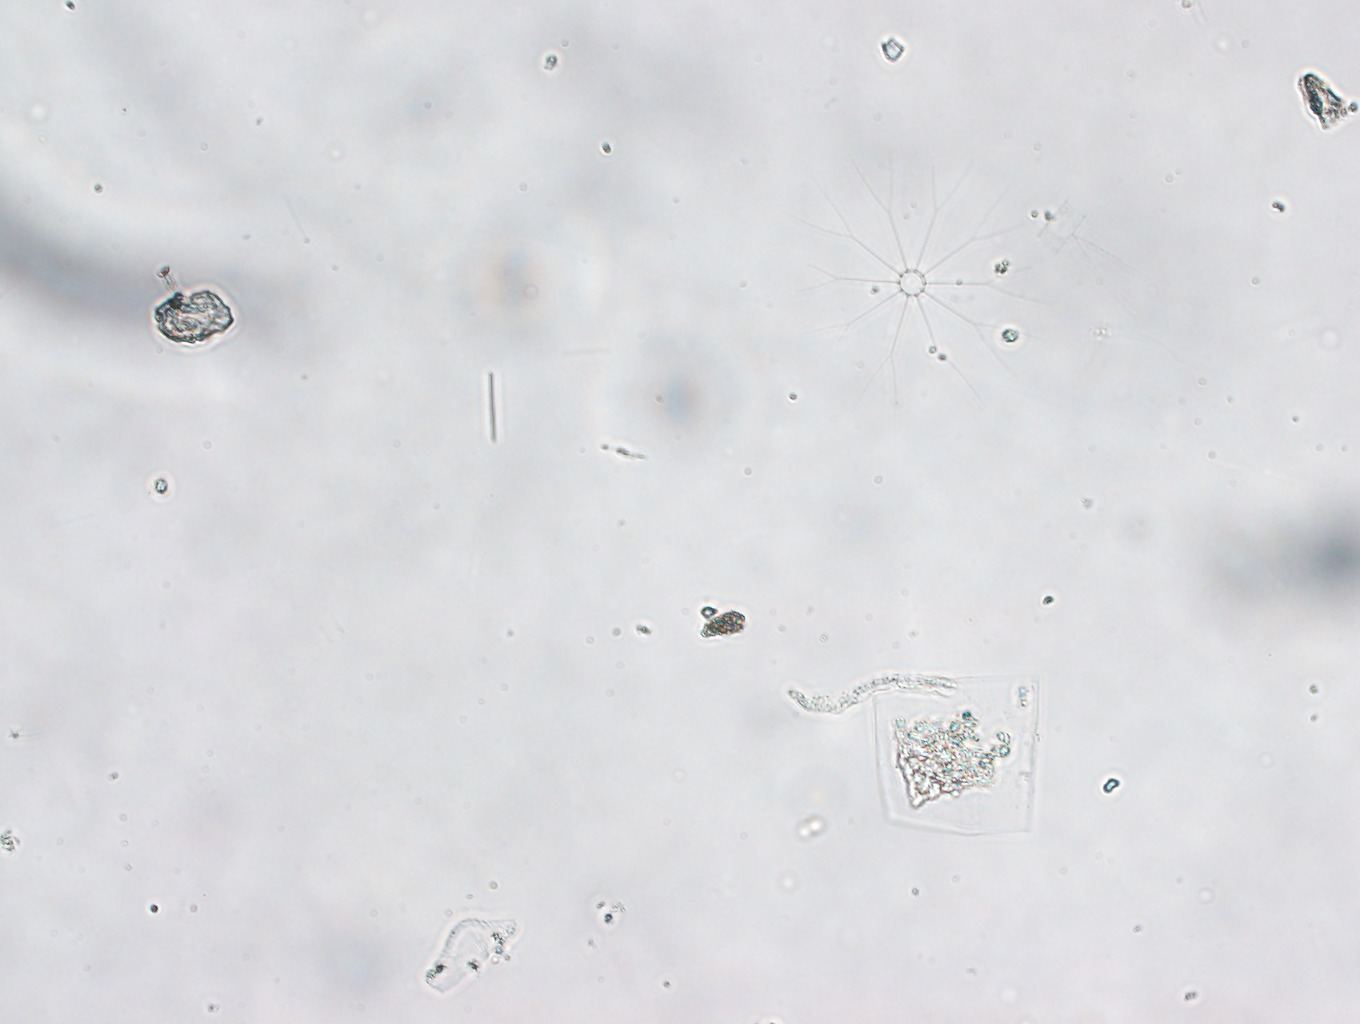bacteriastrum: (791, 152, 1048, 409)
helicotheca: (875, 678, 1037, 835)
